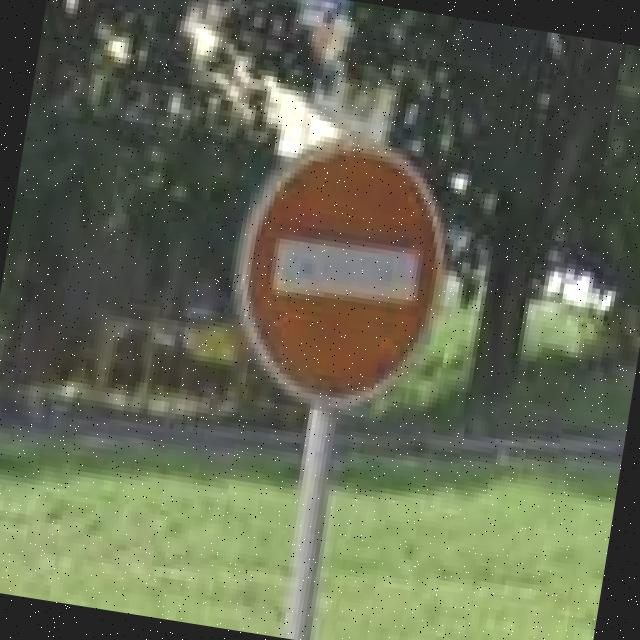Zakaz wjazdu: (216, 121, 464, 422)
